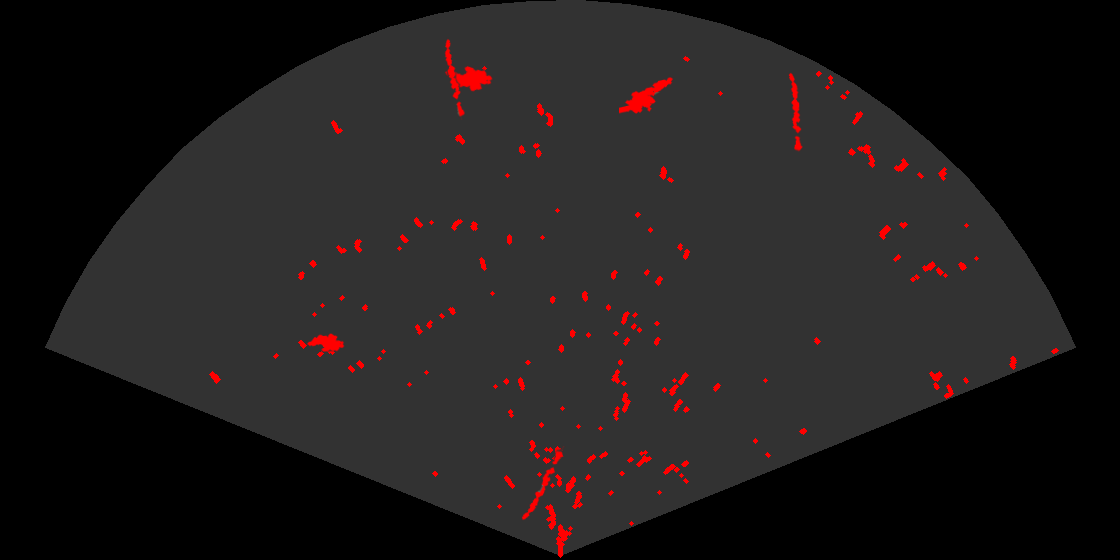AUV: (443, 64, 494, 93), (305, 332, 346, 353)
chain: (520, 446, 566, 522), (443, 37, 466, 120), (787, 71, 804, 152)
frogman: (619, 76, 675, 115)
